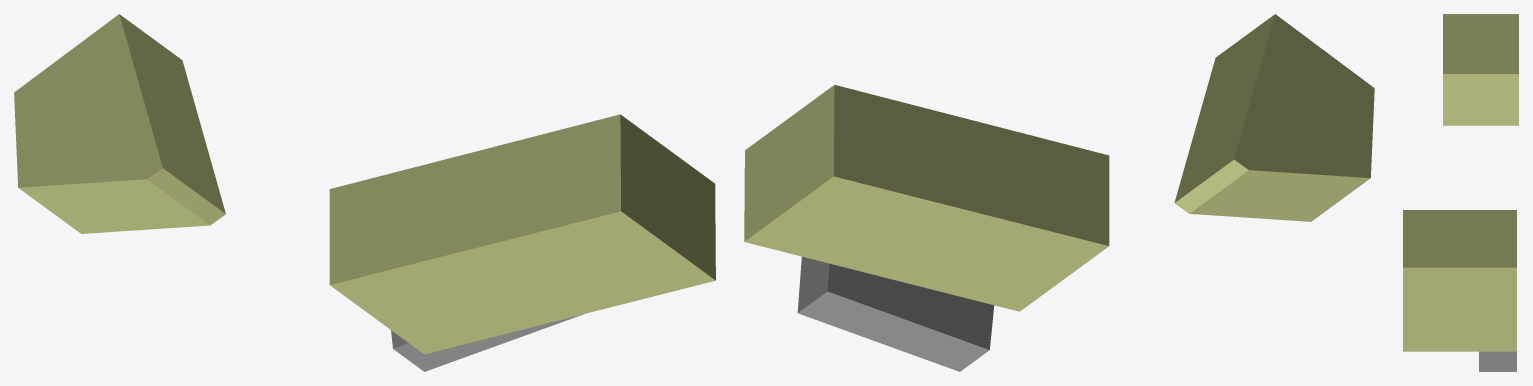
The picture shows the model from 3 angles, left to right: view 1: azimuth 30°, elevation 25°; view 2: azimuth 150°, elevation 25°; view 3: azimuth 270°, elevation 25°; orthographic projection. The views are drawn at different scales.
Visible parts, largest first — view 1: 0_1_2_0_3_3_1_3_3; view 2: 0_1_2_0_3_3_1_3_3; view 3: 0_1_2_0_3_3_1_3_3.
Part boxes in pixels (<box>): 0_1_2_0_3_3_1_3_3: <box>14,14,715,371</box>; 0_1_2_0_3_3_1_3_3: <box>744,14,1374,371</box>; 0_1_2_0_3_3_1_3_3: <box>1403,14,1518,371</box>.
Bounding box in the file's own units: 33.2 × 20.96 × 9.15.
